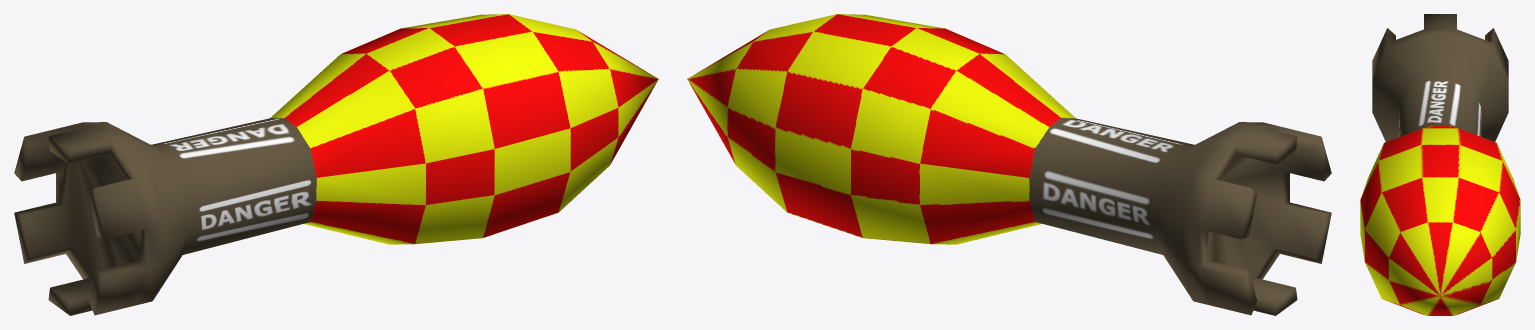
File: Projectile.fbx
3 views of the same model, side by side, from view 1: azimuth 30°, elevation 25°; view 2: azimuth 150°, elevation 25°; view 3: azimuth 270°, elevation 25° (orthographic). The views are drawn at different scales.
Parts seen in each view (by area): view 1: Projectile; view 2: Projectile; view 3: Projectile.
Boxes of the visible parts, x1,y1,x2,y2 form: Projectile: (14,14,658,315); Projectile: (687,14,1331,315); Projectile: (1360,14,1520,315).
Bounding box in the file's own units: 189 × 57.98 × 57.98.
1 material, 1 textured.
